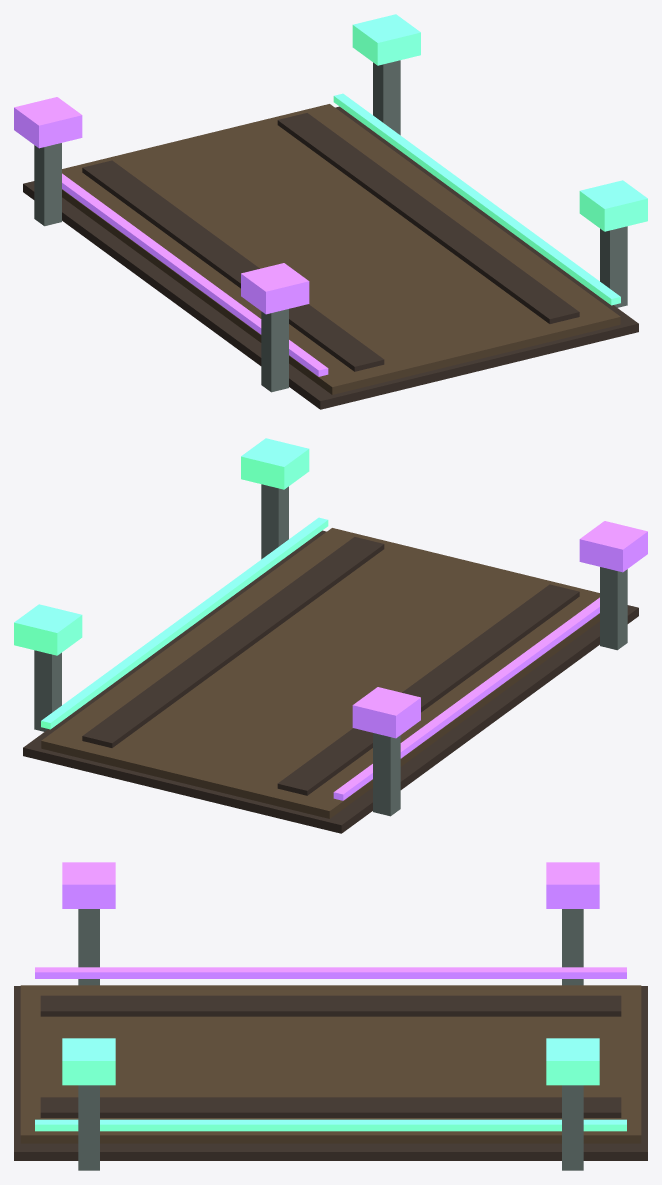
Rendered from supply_route_l01.glb.
3 renders of one model, top to bottom at view 1: azimuth 30°, elevation 25°; view 2: azimuth 150°, elevation 25°; view 3: azimuth 270°, elevation 25°, orthographic. The views are drawn at different scales.
Visible parts, largest first — view 1: supply_route_l01; view 2: supply_route_l01; view 3: supply_route_l01.
Boxes of the visible parts, <box> form: supply_route_l01: <box>14,14,647,409</box>; supply_route_l01: <box>14,438,647,833</box>; supply_route_l01: <box>14,862,647,1170</box>.
Bounding box in the file's own units: 2.82 × 0.77 × 3.8.
